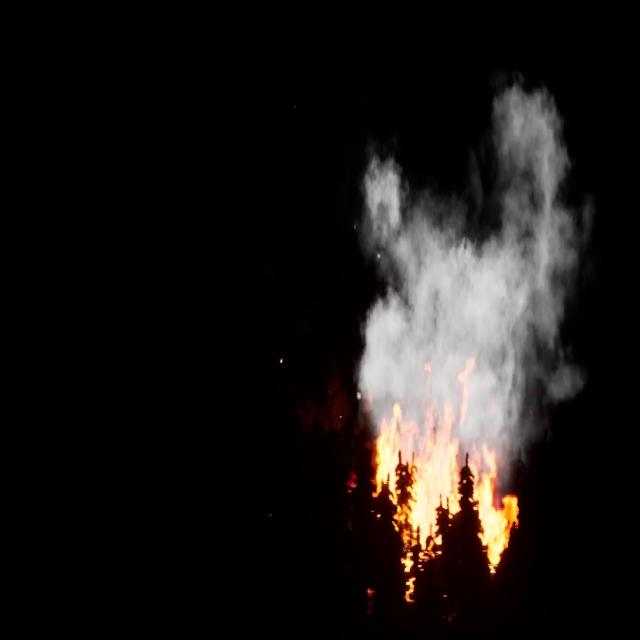fire: (372, 357, 516, 606)
smoke: (359, 78, 588, 467)
